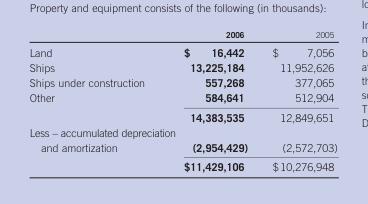table: (28, 28, 336, 172)
table column: (28, 28, 179, 172), (179, 28, 259, 172), (259, 28, 336, 172)
table column header: (28, 28, 336, 42)
table row: (28, 124, 336, 156), (28, 106, 336, 124), (28, 42, 336, 59), (28, 89, 336, 106), (28, 156, 336, 172), (28, 59, 336, 74), (28, 74, 336, 89), (28, 28, 336, 42)
